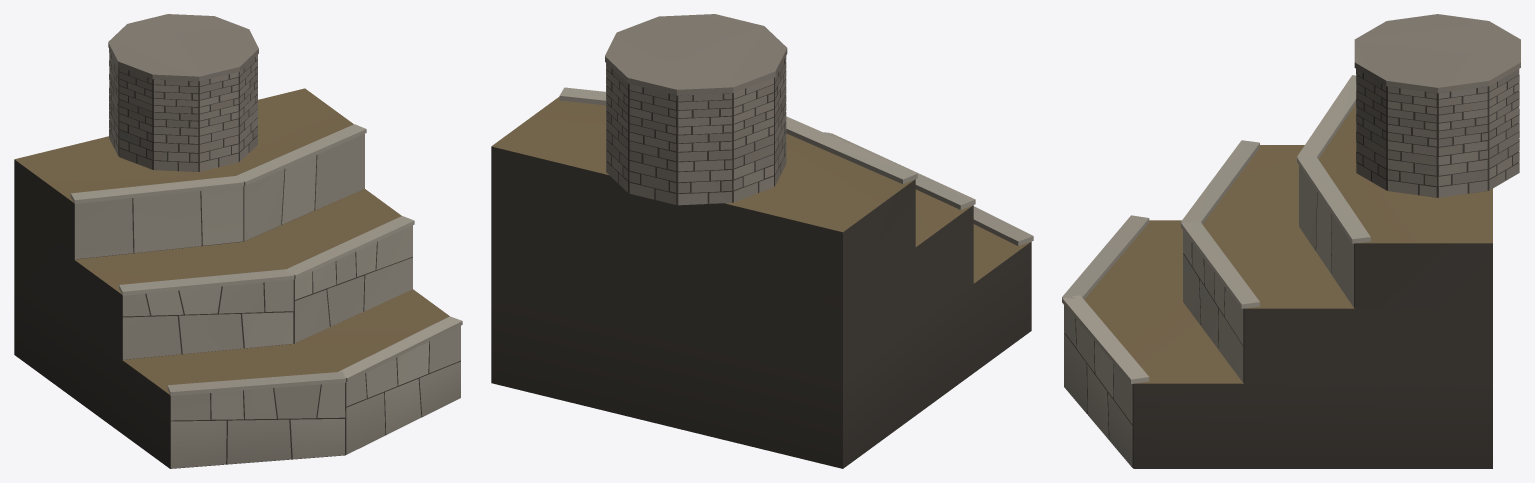
File: cusco_sacsay_round_lod1.glb
3 renders of one model, left to right at view 1: azimuth 30°, elevation 25°; view 2: azimuth 150°, elevation 25°; view 3: azimuth 270°, elevation 25°, orthographic. The views are drawn at different scales.
Parts seen in each view (by area): view 1: GEO-Arch_cusco_sacsay_round_LOD1; view 2: GEO-Arch_cusco_sacsay_round_LOD1; view 3: GEO-Arch_cusco_sacsay_round_LOD1.
Boxes of the visible parts, left/top/right/bottom form: GEO-Arch_cusco_sacsay_round_LOD1: left=14, top=14, right=462, bottom=468; GEO-Arch_cusco_sacsay_round_LOD1: left=491, top=14, right=1033, bottom=468; GEO-Arch_cusco_sacsay_round_LOD1: left=1062, top=14, right=1520, bottom=468.
Bounding box in the file's own units: 14.07 × 13.42 × 16.6.
